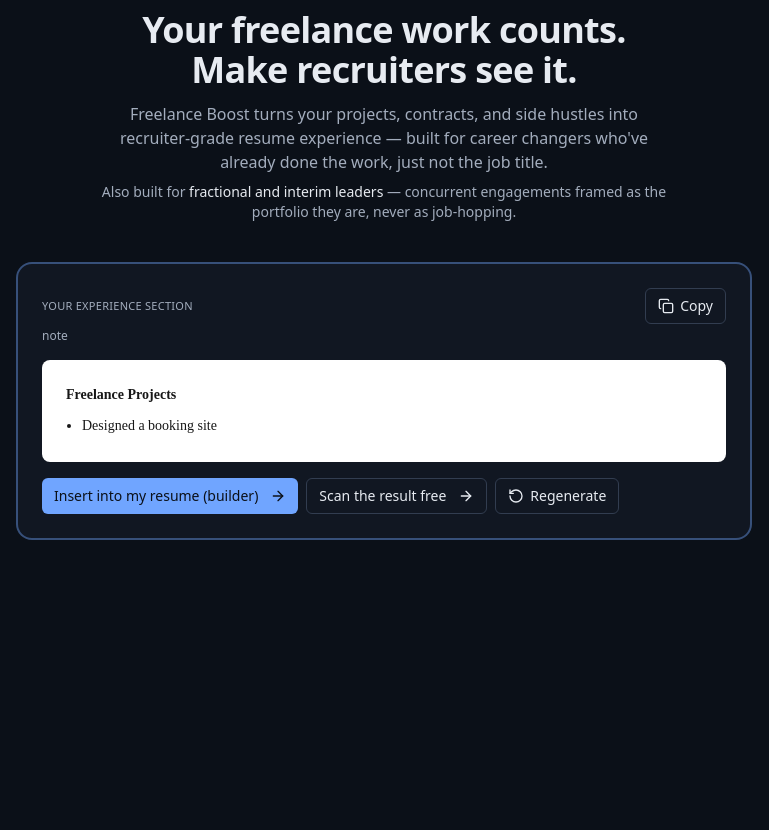
Test: the saved section has a Regenerate button › a failed write shows the server's own sentence
The width and height of the screenshot is (769, 830).
Click the button "Regenerate".
click(557, 496)  # box x1=495 y1=478 x2=619 y2=514
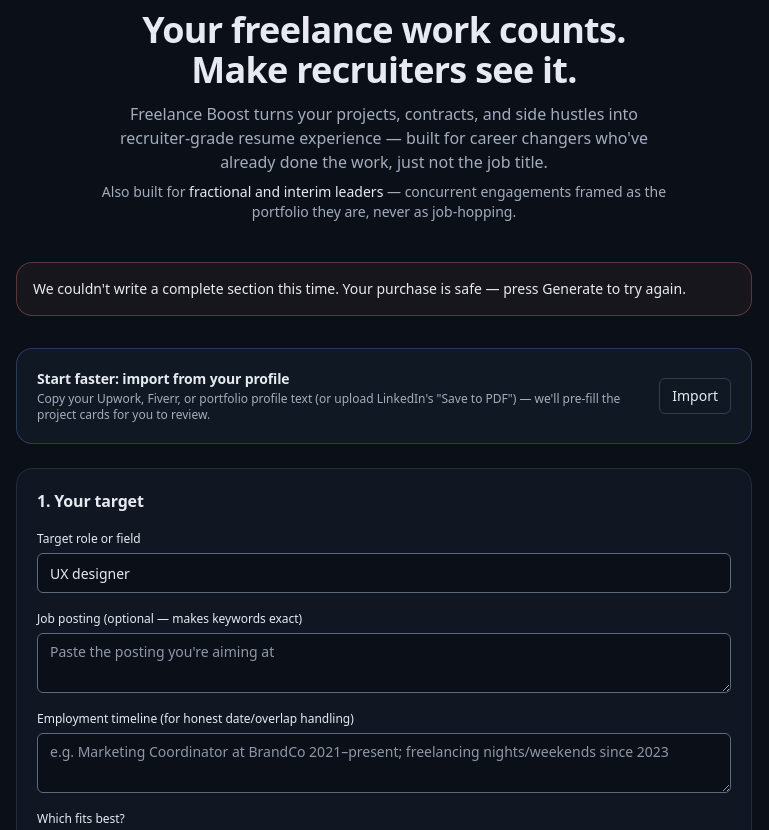
Now the text "couldn't write a complete section this time. Your purchase is safe" is shown, box x1=33 y1=279 x2=686 y2=298
